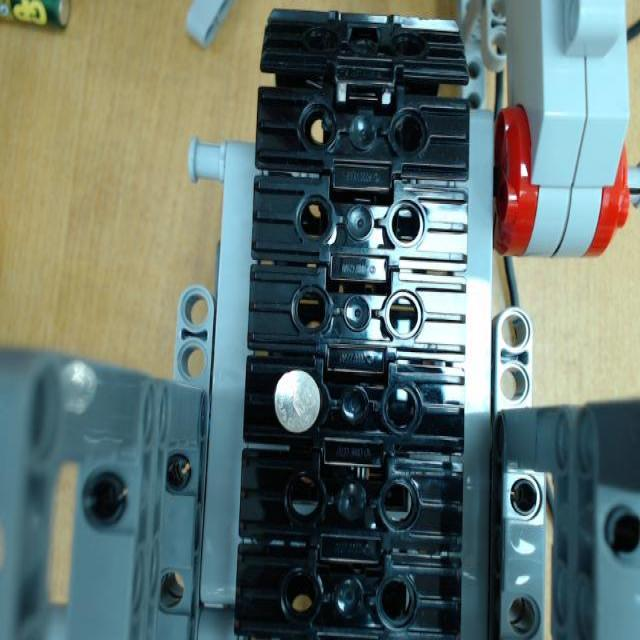COIN: (273, 371, 322, 433)
